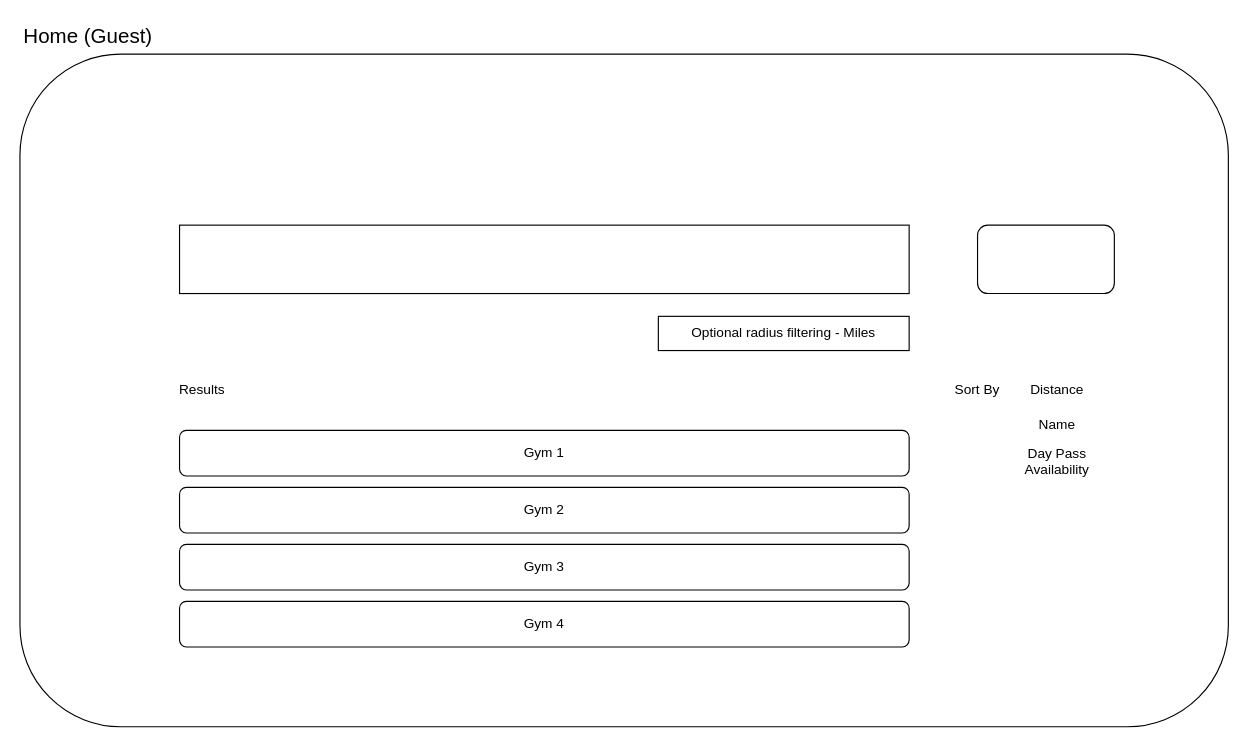
Image size: 1248x747. Some labels were removed from this diagram. The centre of each missing label's shape, as x and y in pixels:
"Search" goes at (1045,259).
"Search by gym name or location" goes at (543,259).
